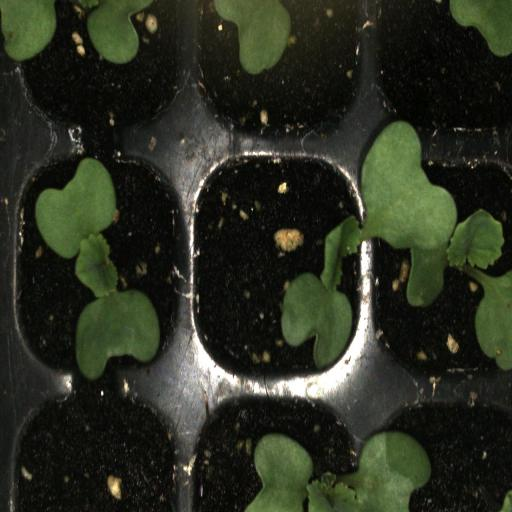seedling: (188, 137, 372, 389), (8, 143, 189, 385), (374, 134, 512, 383), (188, 384, 377, 512)
